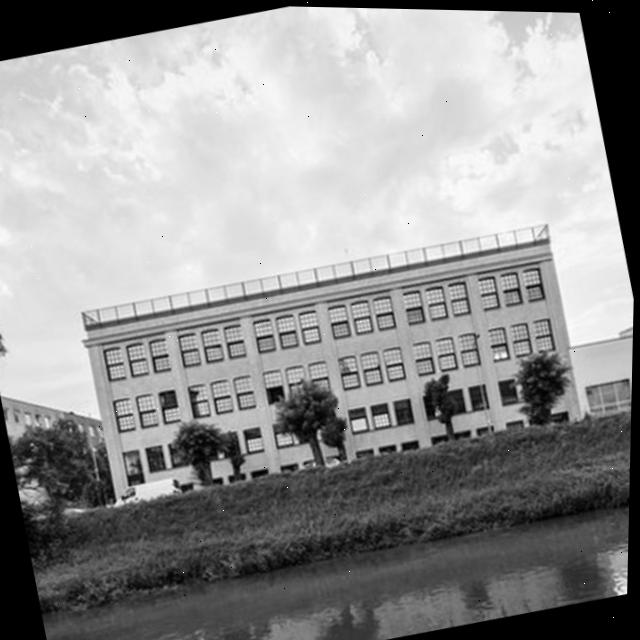building: (72, 207, 587, 523), (0, 372, 119, 511), (565, 329, 633, 435)
